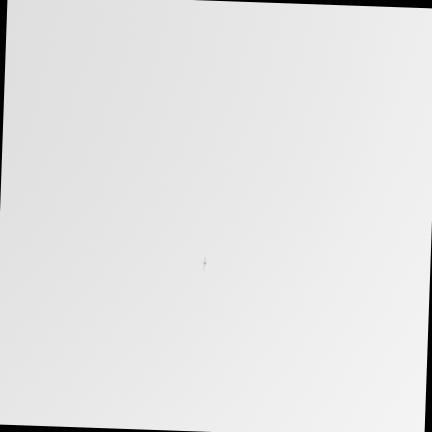Shahed: (203, 254, 206, 270)
